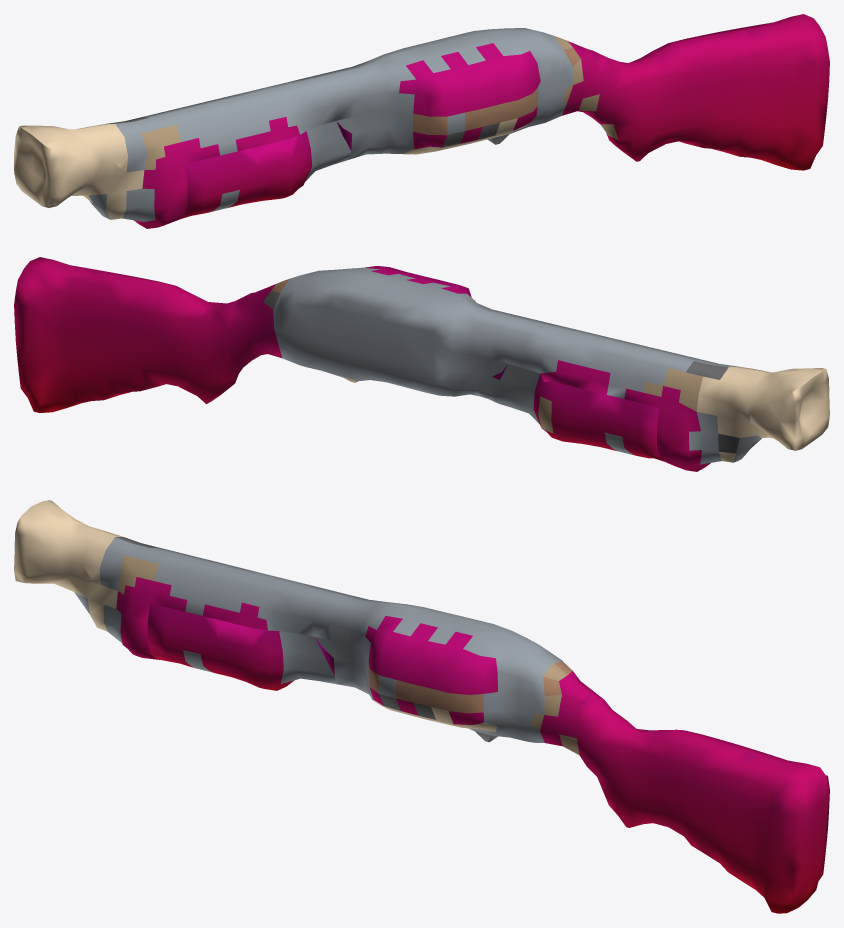
File: wpn_fracas.glb
The picture shows the model from 3 angles, top to bottom: view 1: azimuth 30°, elevation 25°; view 2: azimuth 150°, elevation 25°; view 3: azimuth 330°, elevation 25°; orthographic projection.
Visible parts, largest first — view 1: wpn_fracas, pompe; view 2: wpn_fracas, pompe; view 3: wpn_fracas, pompe.
Part boxes in pixels (x1=…): wpn_fracas: x1=14, y1=14, x2=829, y2=228; pompe: x1=179, y1=116, x2=353, y2=219; wpn_fracas: x1=14, y1=257, x2=829, y2=471; pompe: x1=488, y1=359, x2=663, y2=461; wpn_fracas: x1=14, y1=500, x2=829, y2=913; pompe: x1=147, y1=603, x2=336, y2=690.
Bounding box in the file's own units: 0.9344 × 0.2452 × 0.1121.
